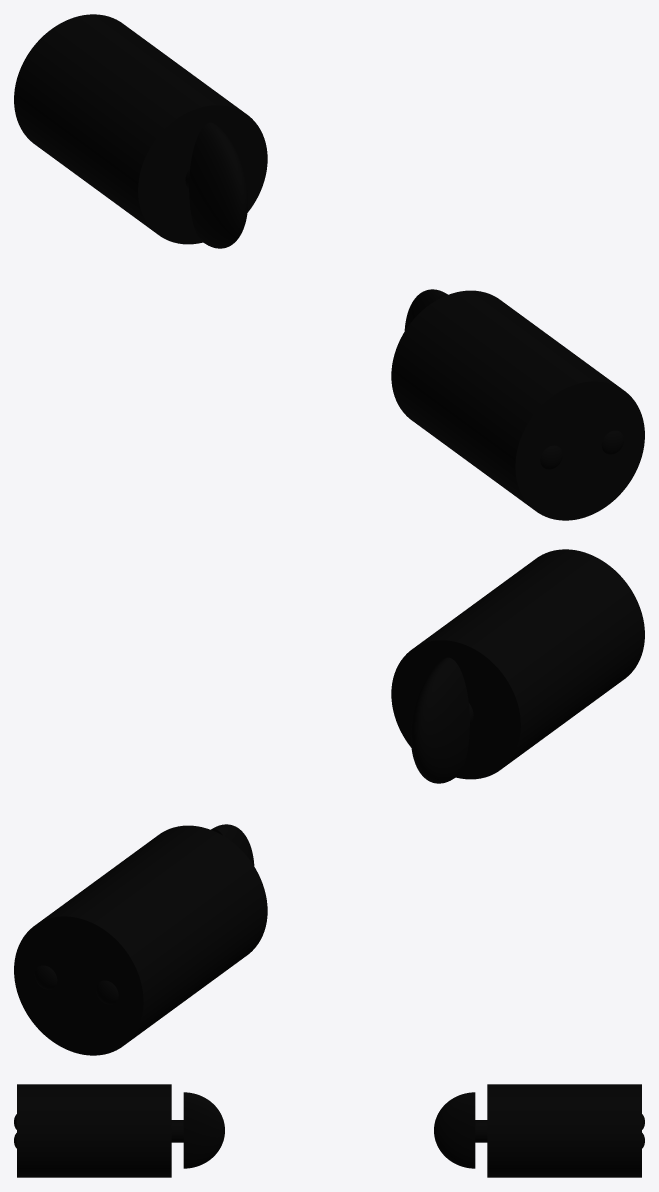
The model's file is LeguLeteron-VDC_Moter.fbx.
3 views of the same model, one above another, from view 1: azimuth 30°, elevation 25°; view 2: azimuth 150°, elevation 25°; view 3: azimuth 270°, elevation 25° (orthographic). The views are drawn at different scales.
Visible parts, largest first — view 1: node_id1017 (×2), node_id1048; view 2: node_id1048 (×2), node_id1017; view 3: node_id1017 (×3), node_id1048 (×3).
Boxes of the visible parts, x1,y1,x2,y2 form: node_id1017 (×2): (14,14,267,248); node_id1048: (391,290,644,520); node_id1048 (×2): (391,549,644,783); node_id1017: (14,825,267,1055); node_id1017 (×3): (434,1084,641,1177); node_id1048 (×3): (17,1084,224,1177).
Size of the model in its own units: 0.0965 by 0.0965 by 0.6525.
5 materials, 5 textured.
